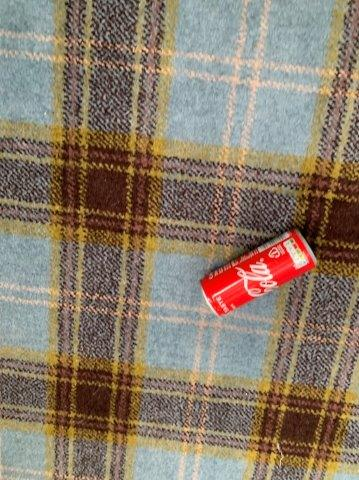kaleng: (202, 230, 315, 314)
